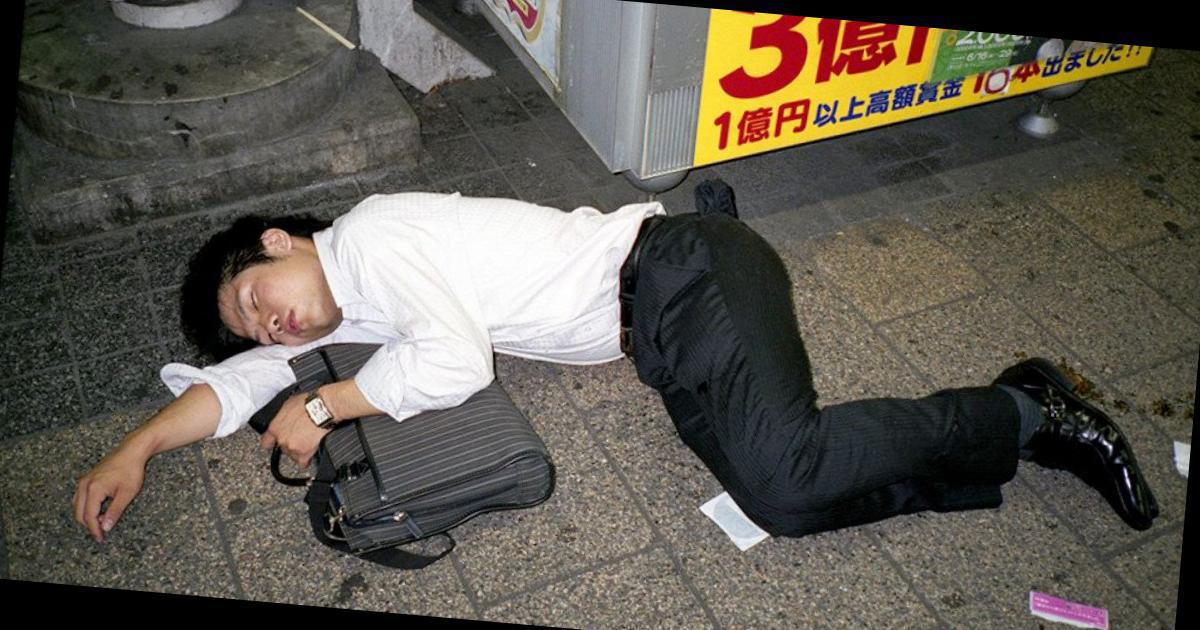Drunk: (216, 267, 336, 341)
